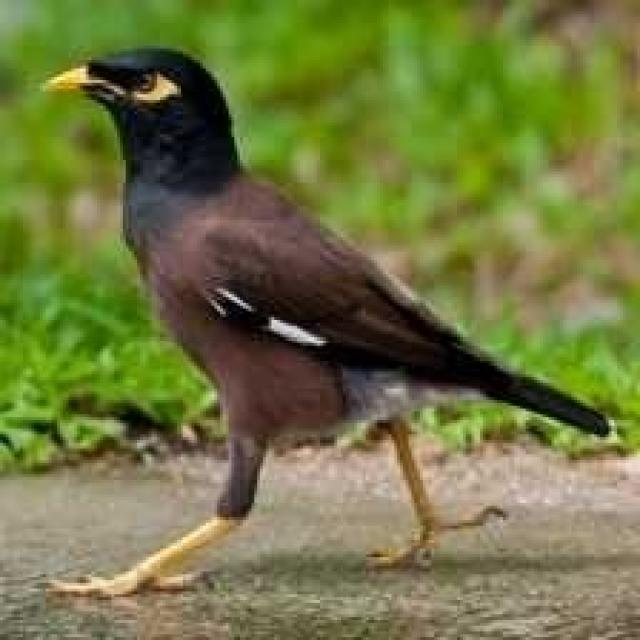bird: (24, 36, 626, 612)
